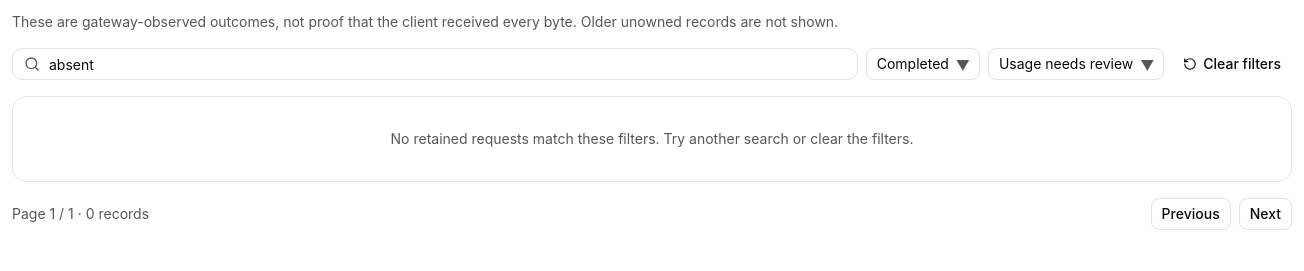
personal request and usage DTOs › sends URL search and quota filters to the server and clears them together
This screenshot has width=1304, height=271.
Expected: the text "No retained requests match" is shown, 391,130 -> 914,147
Step 1. Click the button "Clear filters" → (1232, 64), box 1172,48 -> 1292,80
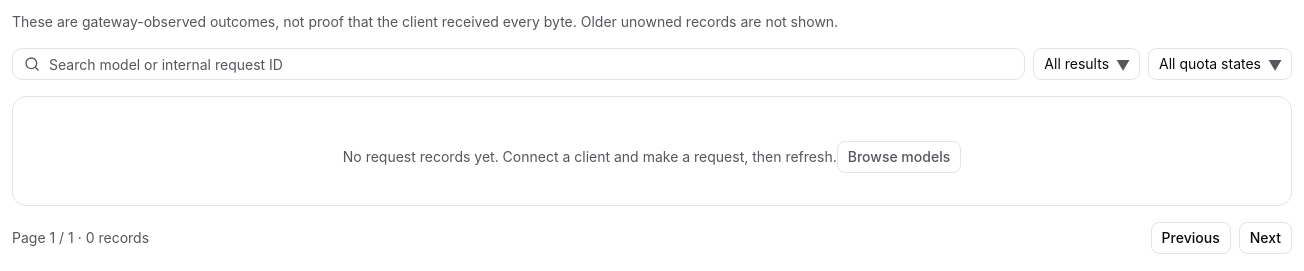
Expected: the text "No request records yet" is shown, 343,148 -> 837,165
